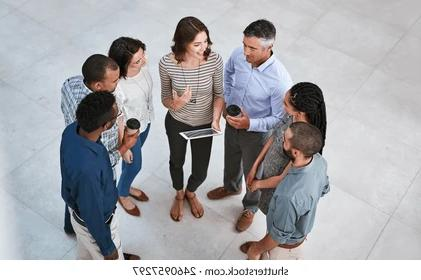long sleeve shirt: (59, 123, 119, 255), (220, 47, 294, 132), (267, 150, 332, 244), (60, 74, 117, 179), (159, 50, 224, 127)
short sleeve shirt: (114, 62, 154, 134)
trousers: (222, 123, 271, 212), (164, 112, 215, 192), (68, 206, 125, 260), (117, 122, 152, 197), (260, 238, 308, 261)
